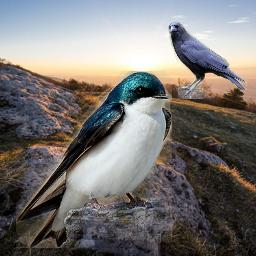Crow: (167, 22, 248, 99)
Swallow: (16, 71, 172, 248)
